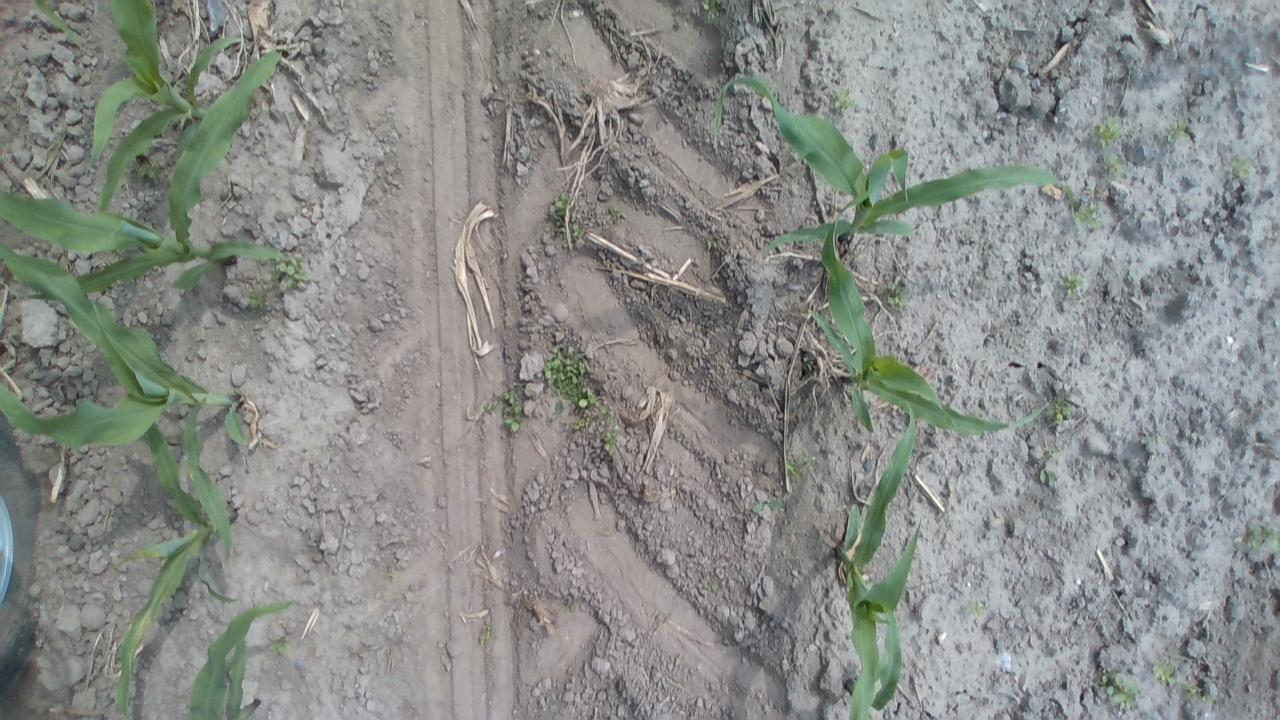Maize: (0, 236, 263, 570), (1, 43, 293, 308), (716, 73, 1072, 281), (816, 209, 1058, 442), (115, 356, 238, 720), (74, 0, 250, 219), (826, 394, 931, 720), (175, 587, 308, 720)
Weeds: (542, 341, 622, 455), (1094, 664, 1140, 714), (264, 250, 318, 292), (499, 380, 529, 438), (1070, 188, 1106, 232), (1239, 523, 1280, 555), (1090, 112, 1122, 153), (1036, 444, 1064, 488), (880, 278, 914, 312), (1045, 392, 1075, 430), (1162, 114, 1196, 145), (826, 86, 861, 116), (546, 188, 572, 226), (1060, 266, 1088, 301), (1132, 424, 1167, 451), (1224, 152, 1254, 183), (786, 450, 815, 482), (1181, 680, 1215, 706), (242, 288, 271, 318), (130, 154, 162, 181), (1150, 655, 1176, 687), (748, 496, 786, 515), (475, 391, 500, 418), (1098, 150, 1127, 172), (606, 195, 626, 225), (265, 636, 291, 658), (962, 597, 988, 619), (698, 0, 724, 21), (476, 620, 494, 648), (1119, 266, 1143, 286), (704, 573, 720, 594), (571, 220, 587, 240), (561, 598, 578, 616)
